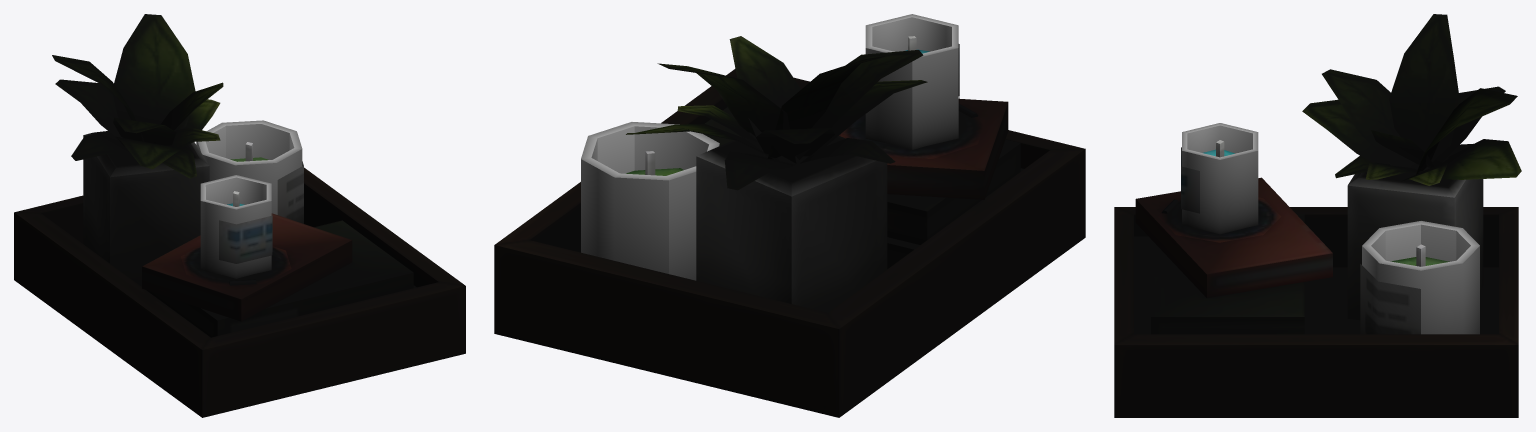
Rendered from tiny_my_kinda_zen.glb.
3 renders of one model, left to right at view 1: azimuth 30°, elevation 25°; view 2: azimuth 150°, elevation 25°; view 3: azimuth 270°, elevation 25°, orthographic. The views are drawn at different scales.
Parts seen in each view (by area): view 1: Object_44, Object_46; view 2: Object_44, Object_46; view 3: Object_44, Object_46.
Part boxes in pixels (x1,y1,x2,y2): Object_44: [14, 14, 465, 417]; Object_46: [196, 120, 302, 278]; Object_44: [494, 36, 1085, 417]; Object_46: [581, 14, 958, 280]; Object_44: [1114, 14, 1521, 417]; Object_46: [1182, 123, 1479, 334].
Size of the model in its own units: 0.5521 by 0.498 by 0.6883.
2 materials, 1 textured.
